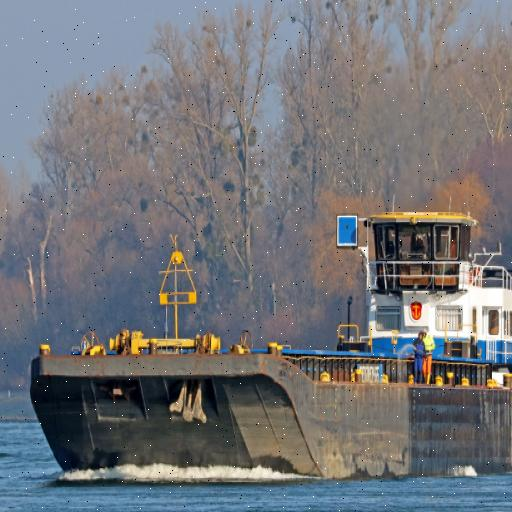tugboat: (319, 193, 512, 478)
